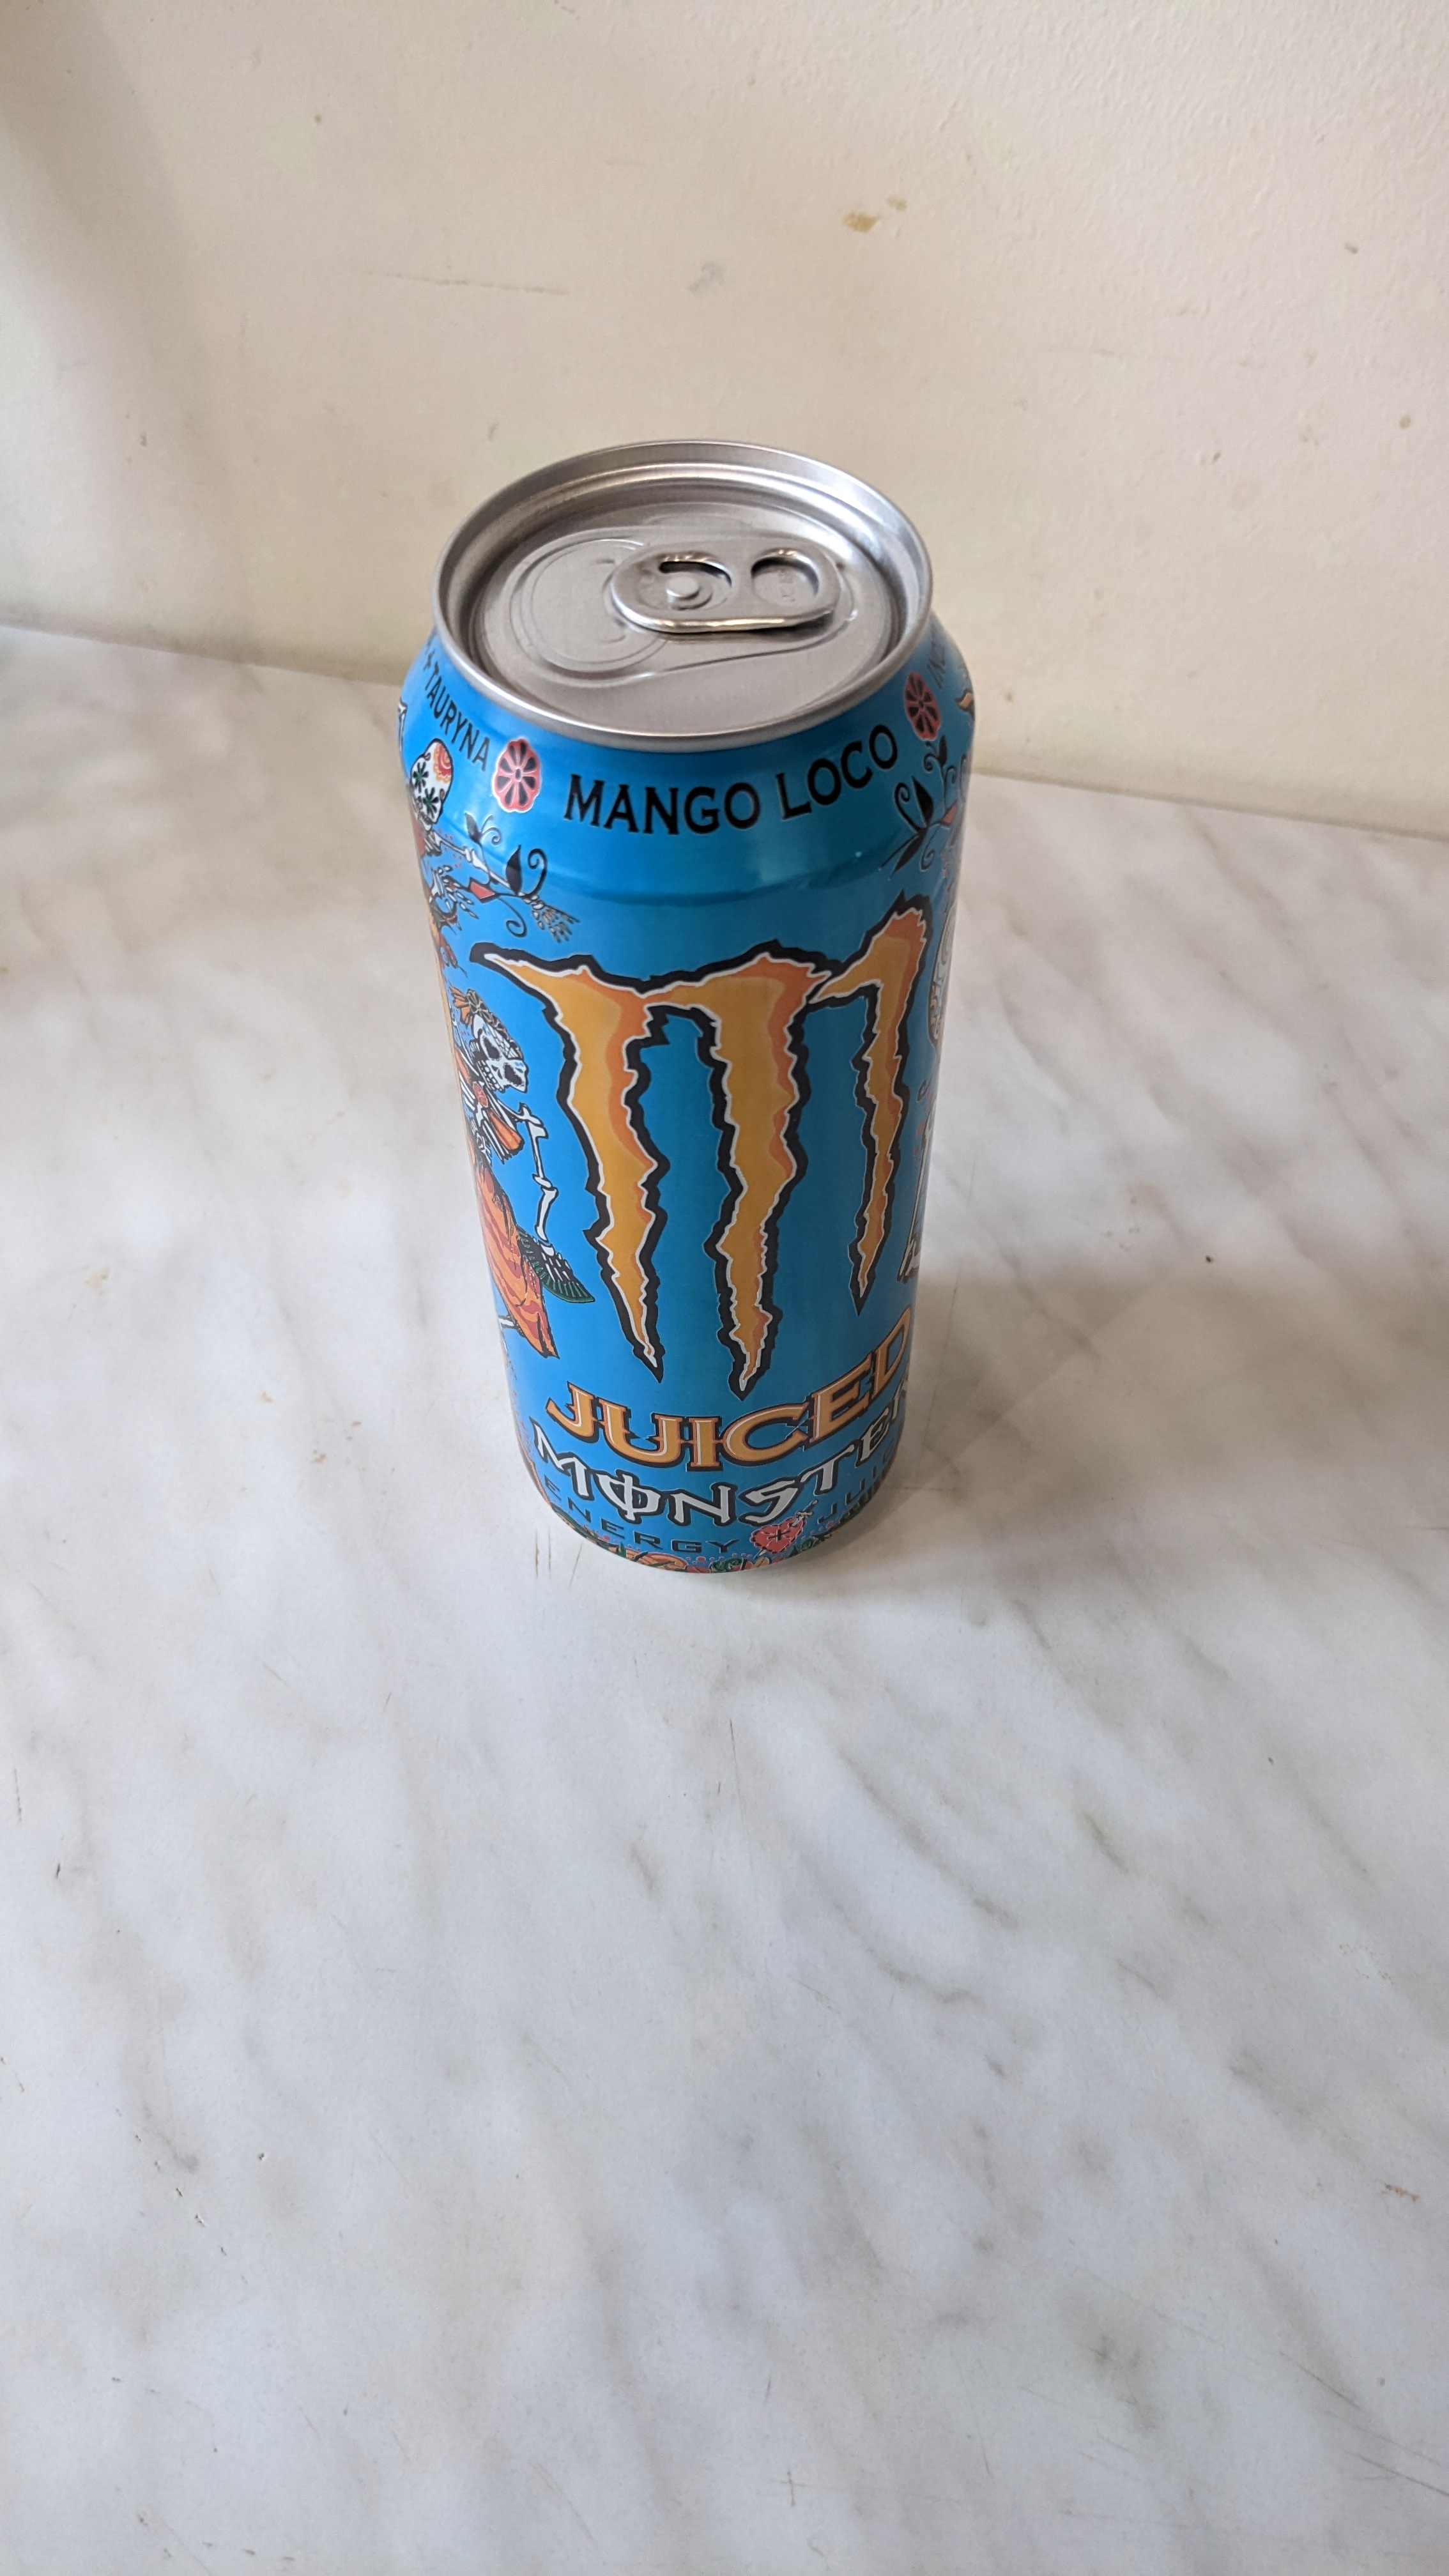monster: (354, 430, 1049, 1635)
